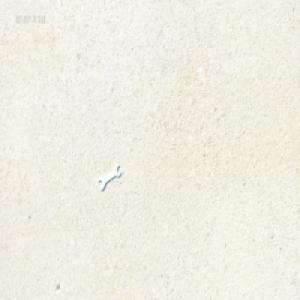Wrench: (98, 161, 121, 189)
